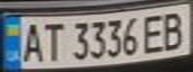3: (66, 18, 90, 61), (87, 17, 109, 60), (106, 16, 127, 58)
6: (121, 14, 145, 57)
A: (18, 19, 45, 64)
B: (157, 8, 190, 52)
E: (139, 11, 169, 54)
T: (39, 19, 66, 63)
